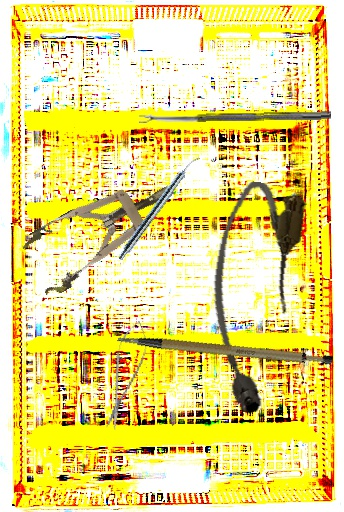Cannula: (194, 177, 309, 417)
Handpiece: (116, 152, 201, 263)
Micro Scissor: (96, 317, 154, 433)
Scalpel Handle: (116, 300, 335, 395)
Speculum: (16, 161, 189, 300)
Surgical Spoon: (138, 110, 332, 123)
